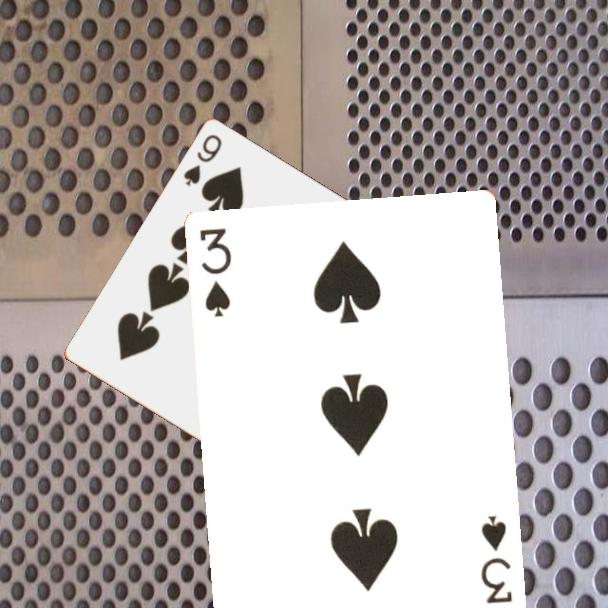s03: (196, 225, 234, 321), (478, 512, 516, 607)
s09: (180, 131, 225, 190)
